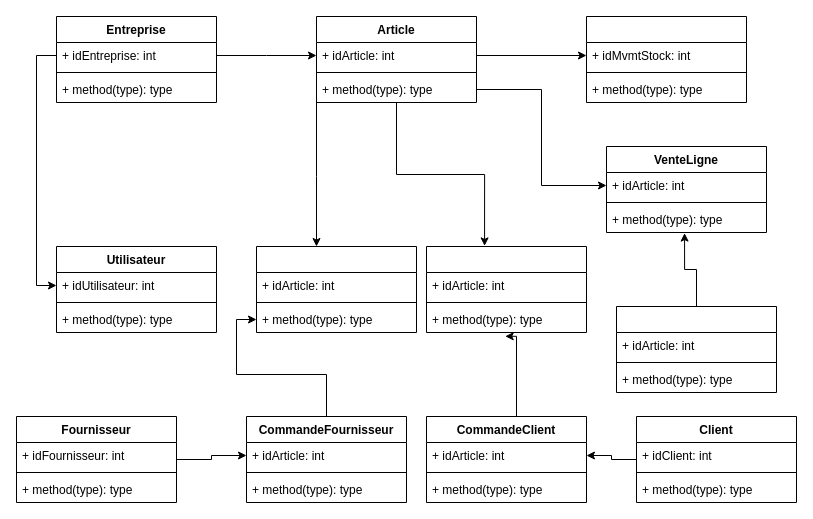
The diagram is 813 pixels wide and 519 high, and some of its shapes have lost their labels. The box of each missing label's shape, as (x1, y1, x2, y2) in pixels:
CdeClientLigne: (426, 246, 586, 332)
CdeFournisseurLigne: (256, 246, 416, 332)
MvmStock: (586, 16, 746, 102)
Vente: (616, 306, 776, 392)
